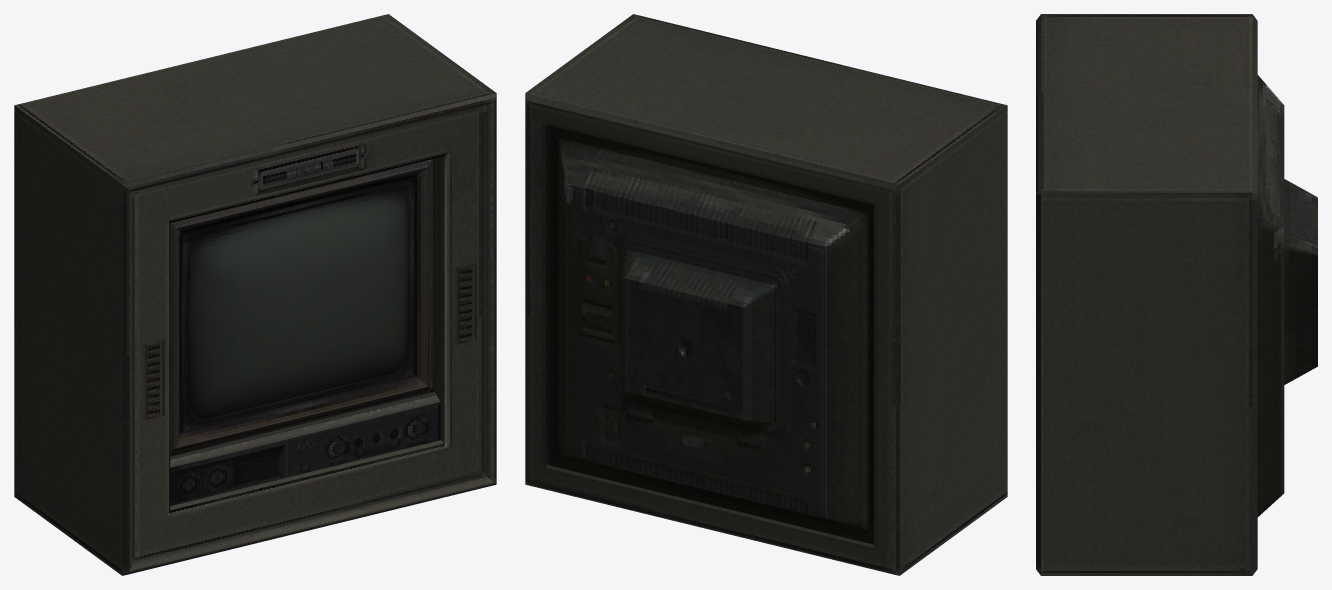
3 renders of one model, left to right at view 1: azimuth 30°, elevation 25°; view 2: azimuth 150°, elevation 25°; view 3: azimuth 270°, elevation 25°, orthographic. The views are drawn at different scales.
Parts seen in each view (by area): view 1: tv_mp_1; view 2: tv_mp_1; view 3: tv_mp_1.
Part boxes in pixels (x1,y1,x2,y2): tv_mp_1: (14,14,496,575); tv_mp_1: (525,14,1007,575); tv_mp_1: (1036,14,1317,575).
Size of the model in its own units: 0.63 by 0.63 by 0.42.
2 materials, 2 textured.
